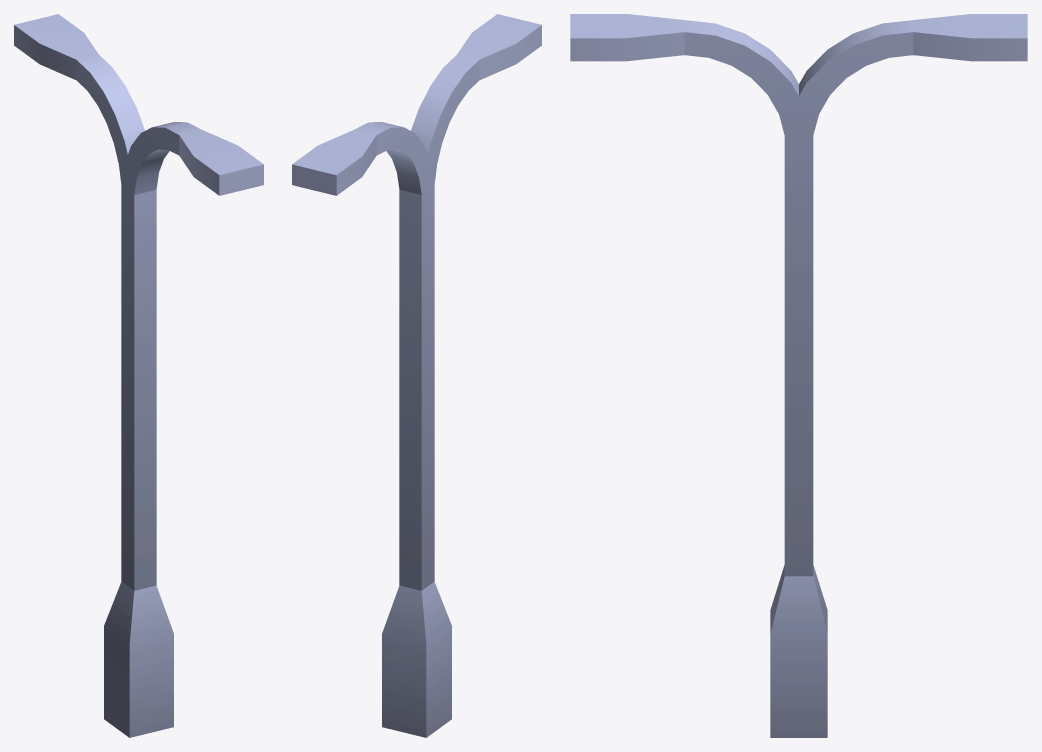
Rendered from light-curved-double.glb.
The picture shows the model from 3 angles, left to right: view 1: azimuth 30°, elevation 25°; view 2: azimuth 150°, elevation 25°; view 3: azimuth 270°, elevation 25°; orthographic projection. The views are drawn at different scales.
Parts seen in each view (by area): view 1: light-curved-double; view 2: light-curved-double; view 3: light-curved-double.
Part boxes in pixels (x1,y1,x2,y2): light-curved-double: [14, 14, 263, 737]; light-curved-double: [292, 14, 541, 737]; light-curved-double: [570, 14, 1027, 737].
Size of the model in its own units: 0.05 by 0.675 by 0.4.
Materials: 1 (1 with a texture image).
